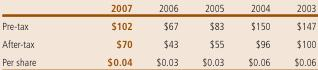table: (1, 1, 315, 67)
table column: (70, 1, 143, 67), (1, 1, 70, 67), (143, 1, 189, 67), (189, 1, 235, 67), (235, 1, 281, 67), (281, 1, 315, 67)
table column header: (1, 1, 315, 16)
table row: (1, 16, 315, 34), (1, 34, 315, 52), (1, 1, 315, 16), (1, 52, 315, 67)
